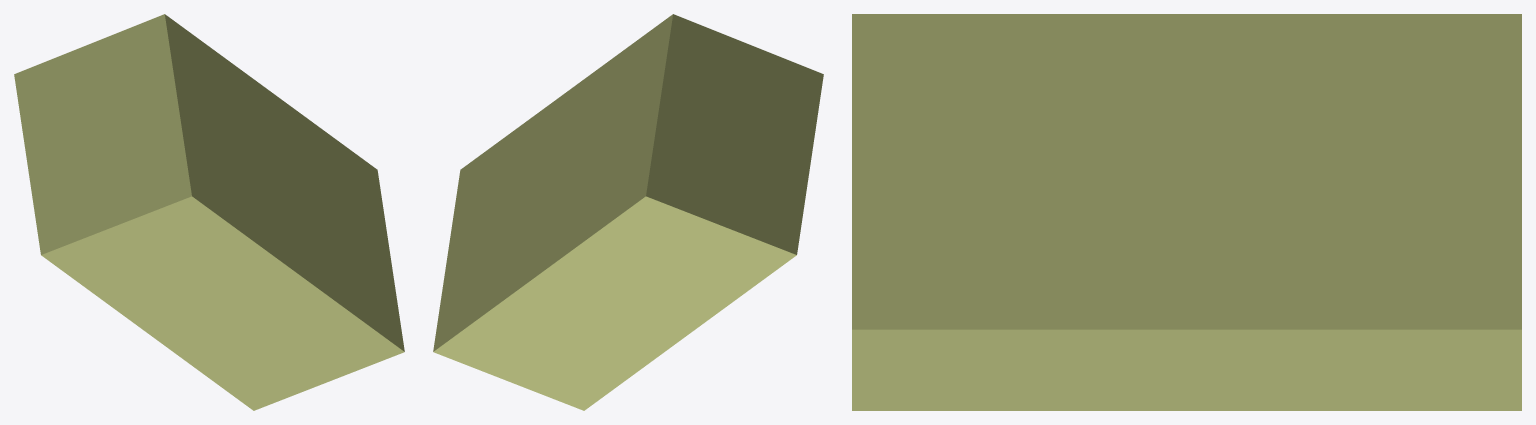
The picture shows the model from 3 angles, left to right: view 1: azimuth 30°, elevation 25°; view 2: azimuth 150°, elevation 25°; view 3: azimuth 270°, elevation 25°; orthographic projection. The views are drawn at different scales.
Visible parts, largest first — view 1: 0_1_2_0_3_1_2_3_0_1_3; view 2: 0_1_2_0_3_1_2_3_0_1_3; view 3: 0_1_2_0_3_1_2_3_0_1_3.
Part boxes in pixels (x1,y1,x2,y2): 0_1_2_0_3_1_2_3_0_1_3: (14,14,404,410); 0_1_2_0_3_1_2_3_0_1_3: (433,14,823,410); 0_1_2_0_3_1_2_3_0_1_3: (852,14,1521,410).
Size of the model in its own units: 2.9 by 3.28 by 6.
